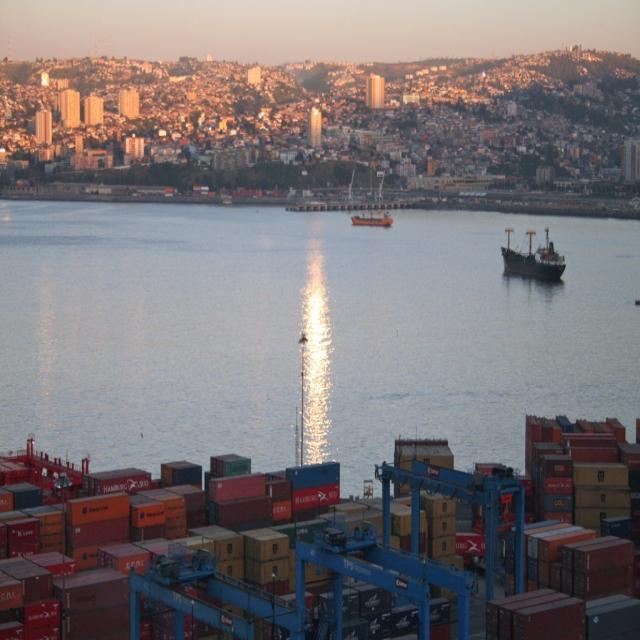Boat: (501, 219, 572, 280), (352, 211, 395, 226)
